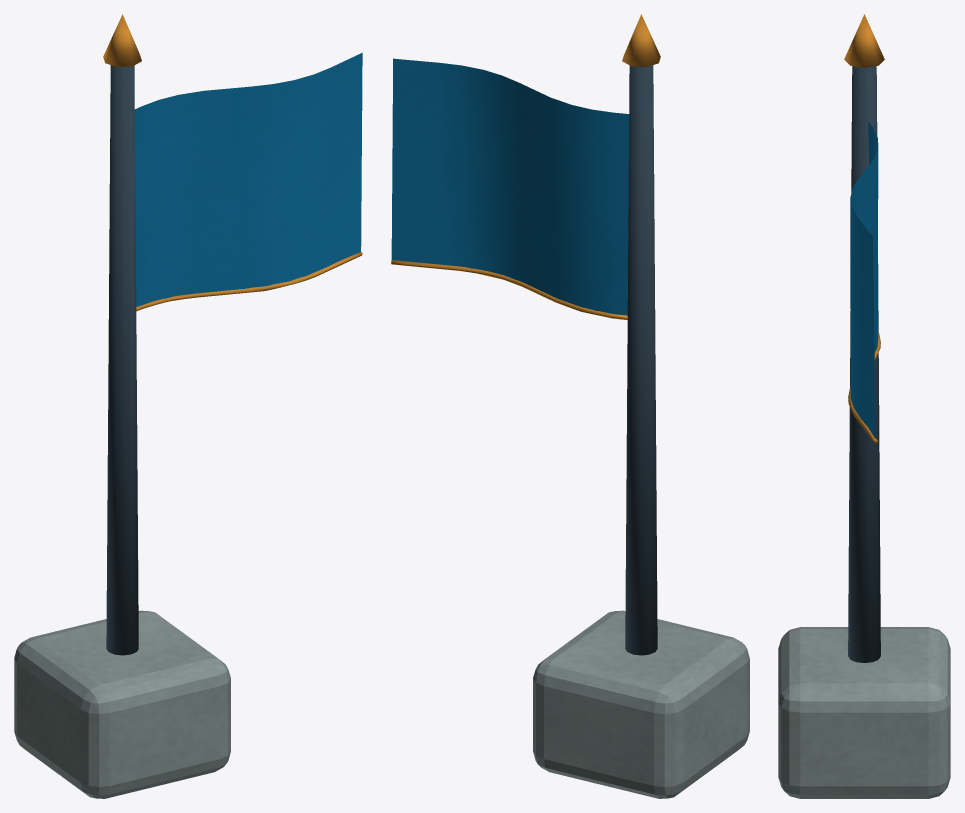
Rendered from SM_banner_LOD1.fbx.
3 views of the same model, side by side, from view 1: azimuth 30°, elevation 25°; view 2: azimuth 150°, elevation 25°; view 3: azimuth 270°, elevation 25° (orthographic).
Visible parts, largest first — view 1: SM_banner_LOD1; view 2: SM_banner_LOD1; view 3: SM_banner_LOD1.
Part boxes in pixels (x1=…): SM_banner_LOD1: x1=14, y1=14, x2=362, y2=798; SM_banner_LOD1: x1=391, y1=14, x2=749, y2=798; SM_banner_LOD1: x1=778, y1=14, x2=950, y2=798.
Size of the model in its own units: 1.19 by 0.55 by 2.66.
